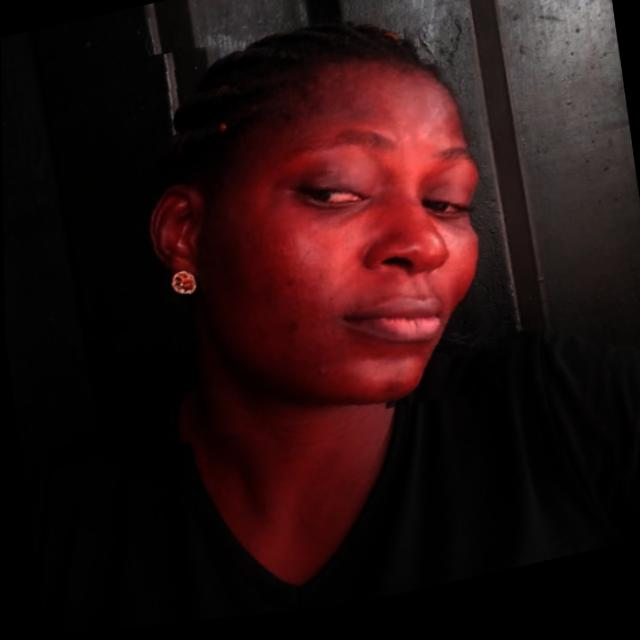sad: (115, 0, 515, 467)
